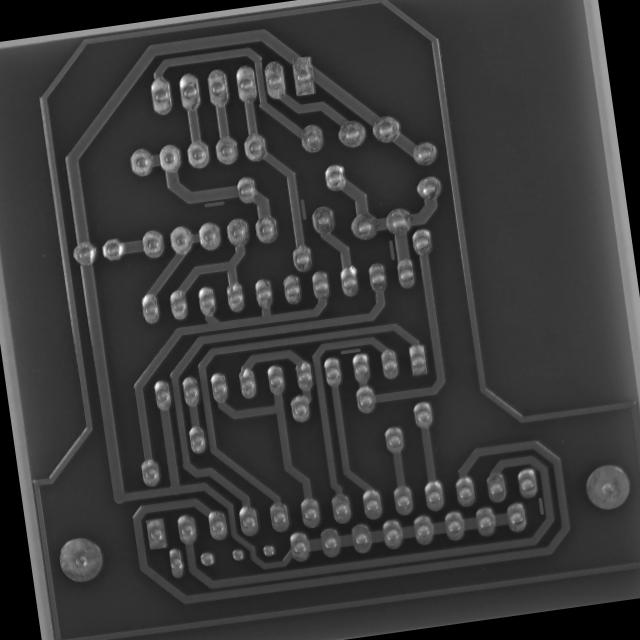spurious_copper: (198, 194, 233, 212), (294, 194, 312, 224), (532, 493, 550, 520), (336, 342, 366, 358), (384, 238, 399, 264)
